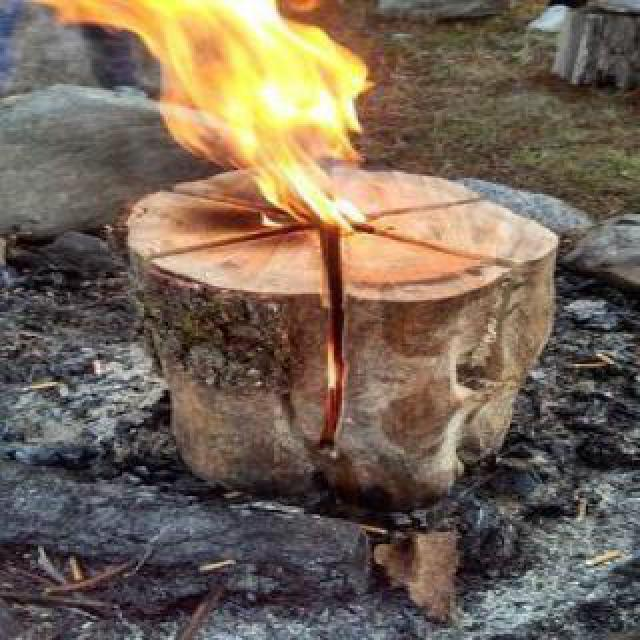Fire: (52, 0, 381, 229)
